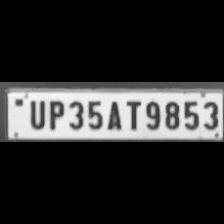3: (64, 97, 84, 130), (200, 97, 220, 130)
5: (84, 97, 104, 131), (180, 97, 200, 130)
8: (162, 97, 180, 130)
9: (142, 97, 162, 130)
A: (103, 98, 123, 132)
P: (45, 97, 65, 130)
T: (122, 97, 142, 130)
U: (24, 98, 46, 130)
